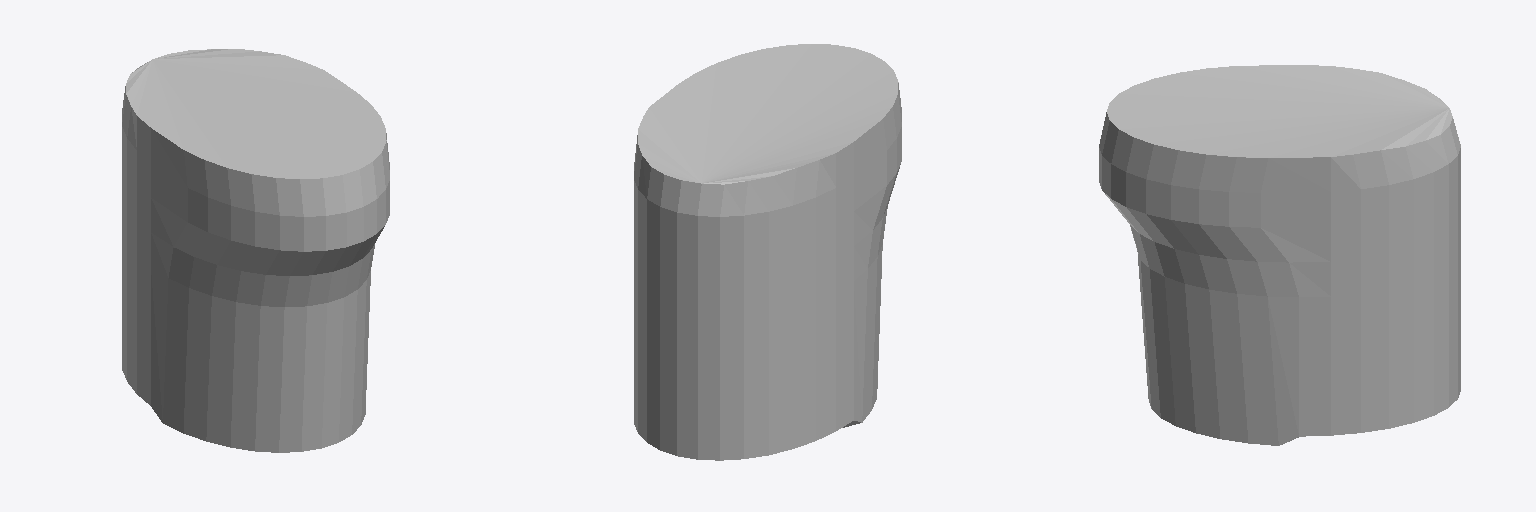
Rendered from Tartaruga-pataFD.obj.
3 renders of one model, left to right at view 1: azimuth 30°, elevation 25°; view 2: azimuth 150°, elevation 25°; view 3: azimuth 270°, elevation 25°, orthographic.
Parts seen in each view (by area): view 1: Tartaruga-pataFD_Cylinder.002; view 2: Tartaruga-pataFD_Cylinder.002; view 3: Tartaruga-pataFD_Cylinder.002.
Boxes of the visible parts, x1,y1,x2,y2 form: Tartaruga-pataFD_Cylinder.002: [122, 49, 389, 452]; Tartaruga-pataFD_Cylinder.002: [634, 44, 901, 460]; Tartaruga-pataFD_Cylinder.002: [1099, 65, 1460, 445].
Bounding box in the file's own units: 0.2912 × 0.421 × 0.4782.